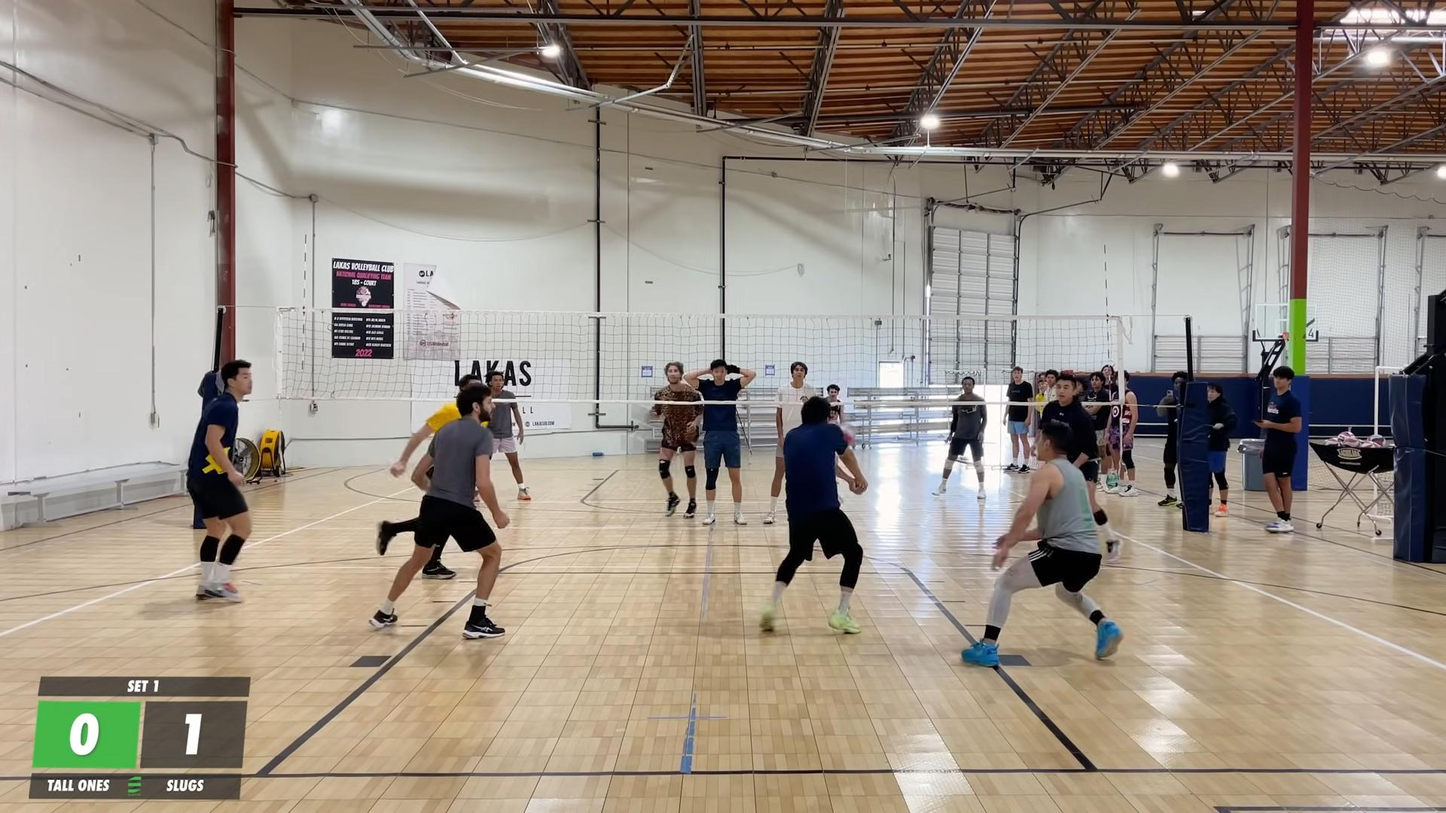Player: (962, 422, 1122, 666), (370, 387, 508, 638), (187, 360, 252, 601), (1042, 376, 1121, 562), (685, 359, 755, 525), (763, 361, 817, 523), (652, 361, 702, 518), (933, 376, 987, 499), (487, 370, 530, 501), (390, 400, 459, 477), (826, 384, 844, 424)
Receive: (756, 398, 870, 645)
ball: (834, 423, 860, 446)
